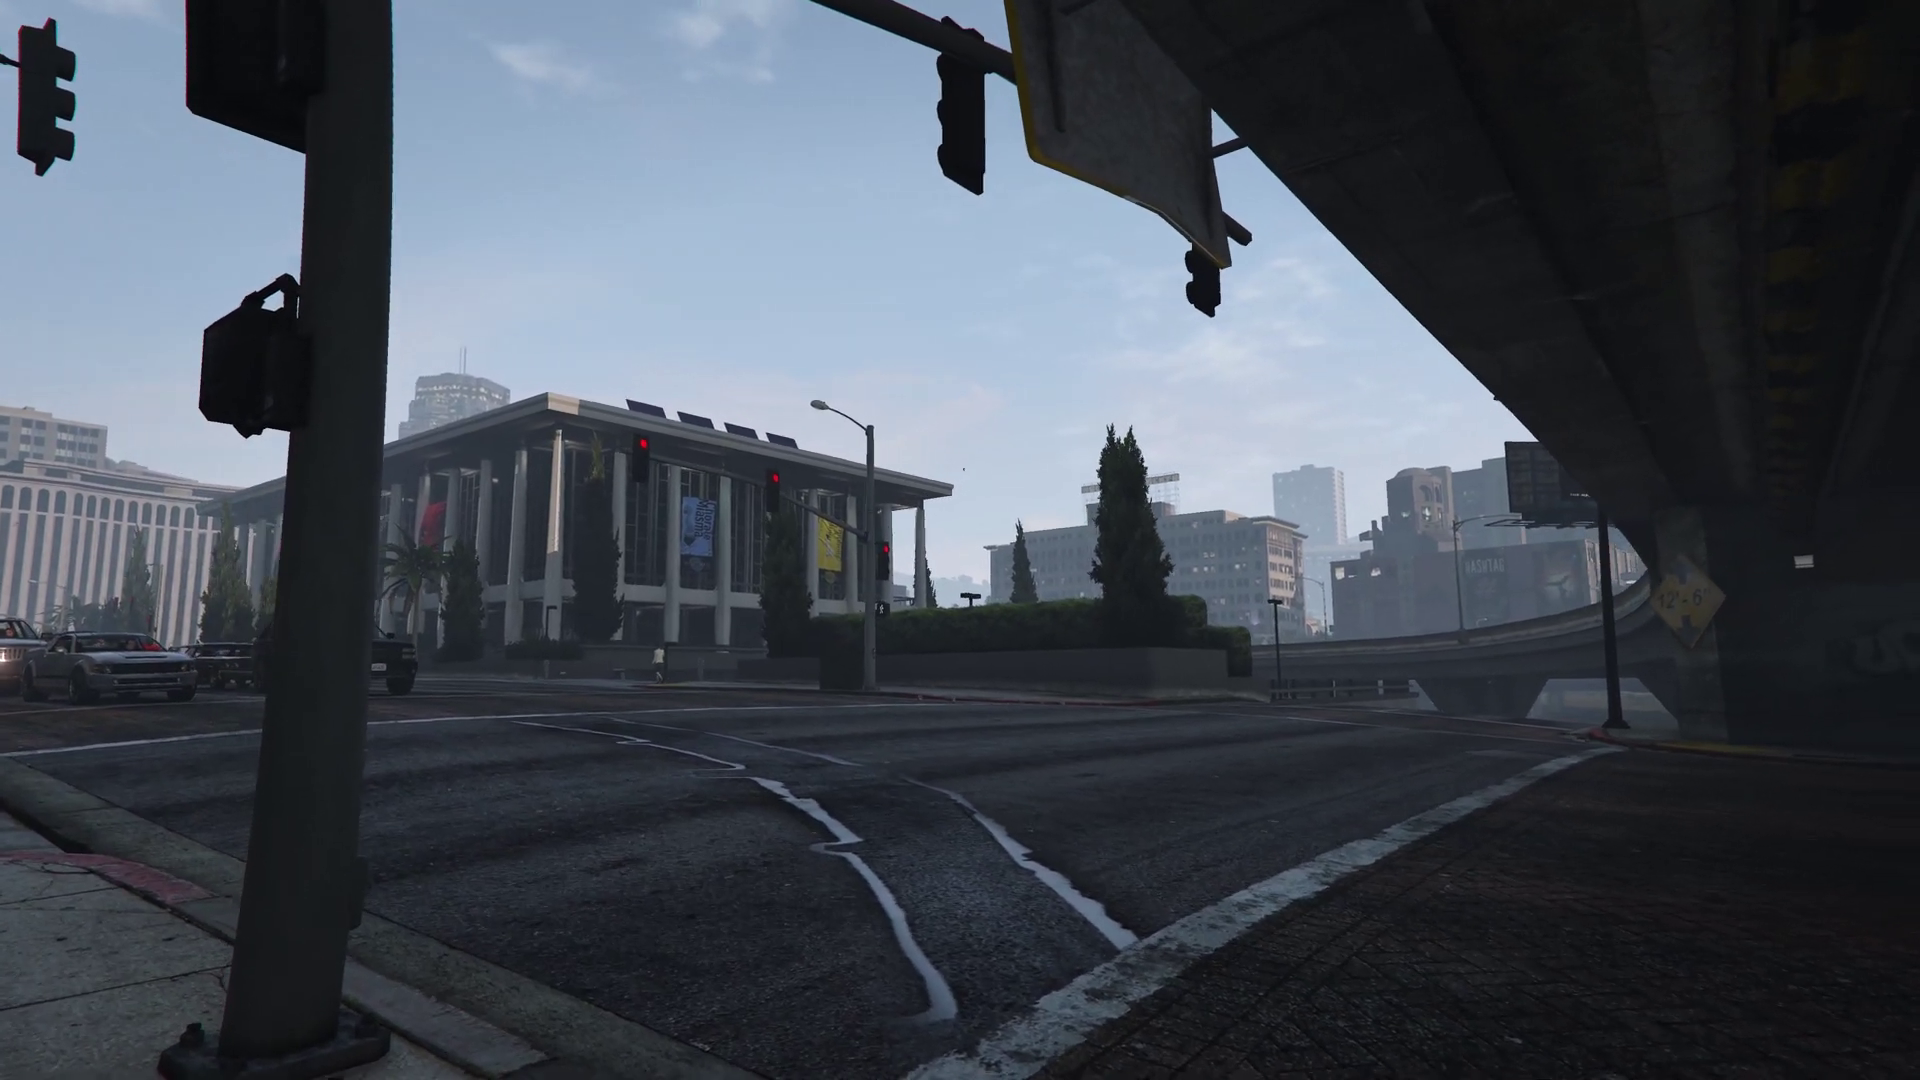car: (256, 619, 420, 697), (25, 631, 195, 701), (1, 618, 47, 690), (187, 643, 252, 685)
person: (650, 646, 667, 683)
traffic light: (197, 301, 315, 442), (938, 14, 986, 198), (20, 16, 72, 179), (1185, 255, 1218, 323), (632, 435, 648, 482), (875, 541, 890, 581), (766, 470, 779, 514), (875, 600, 888, 619)
